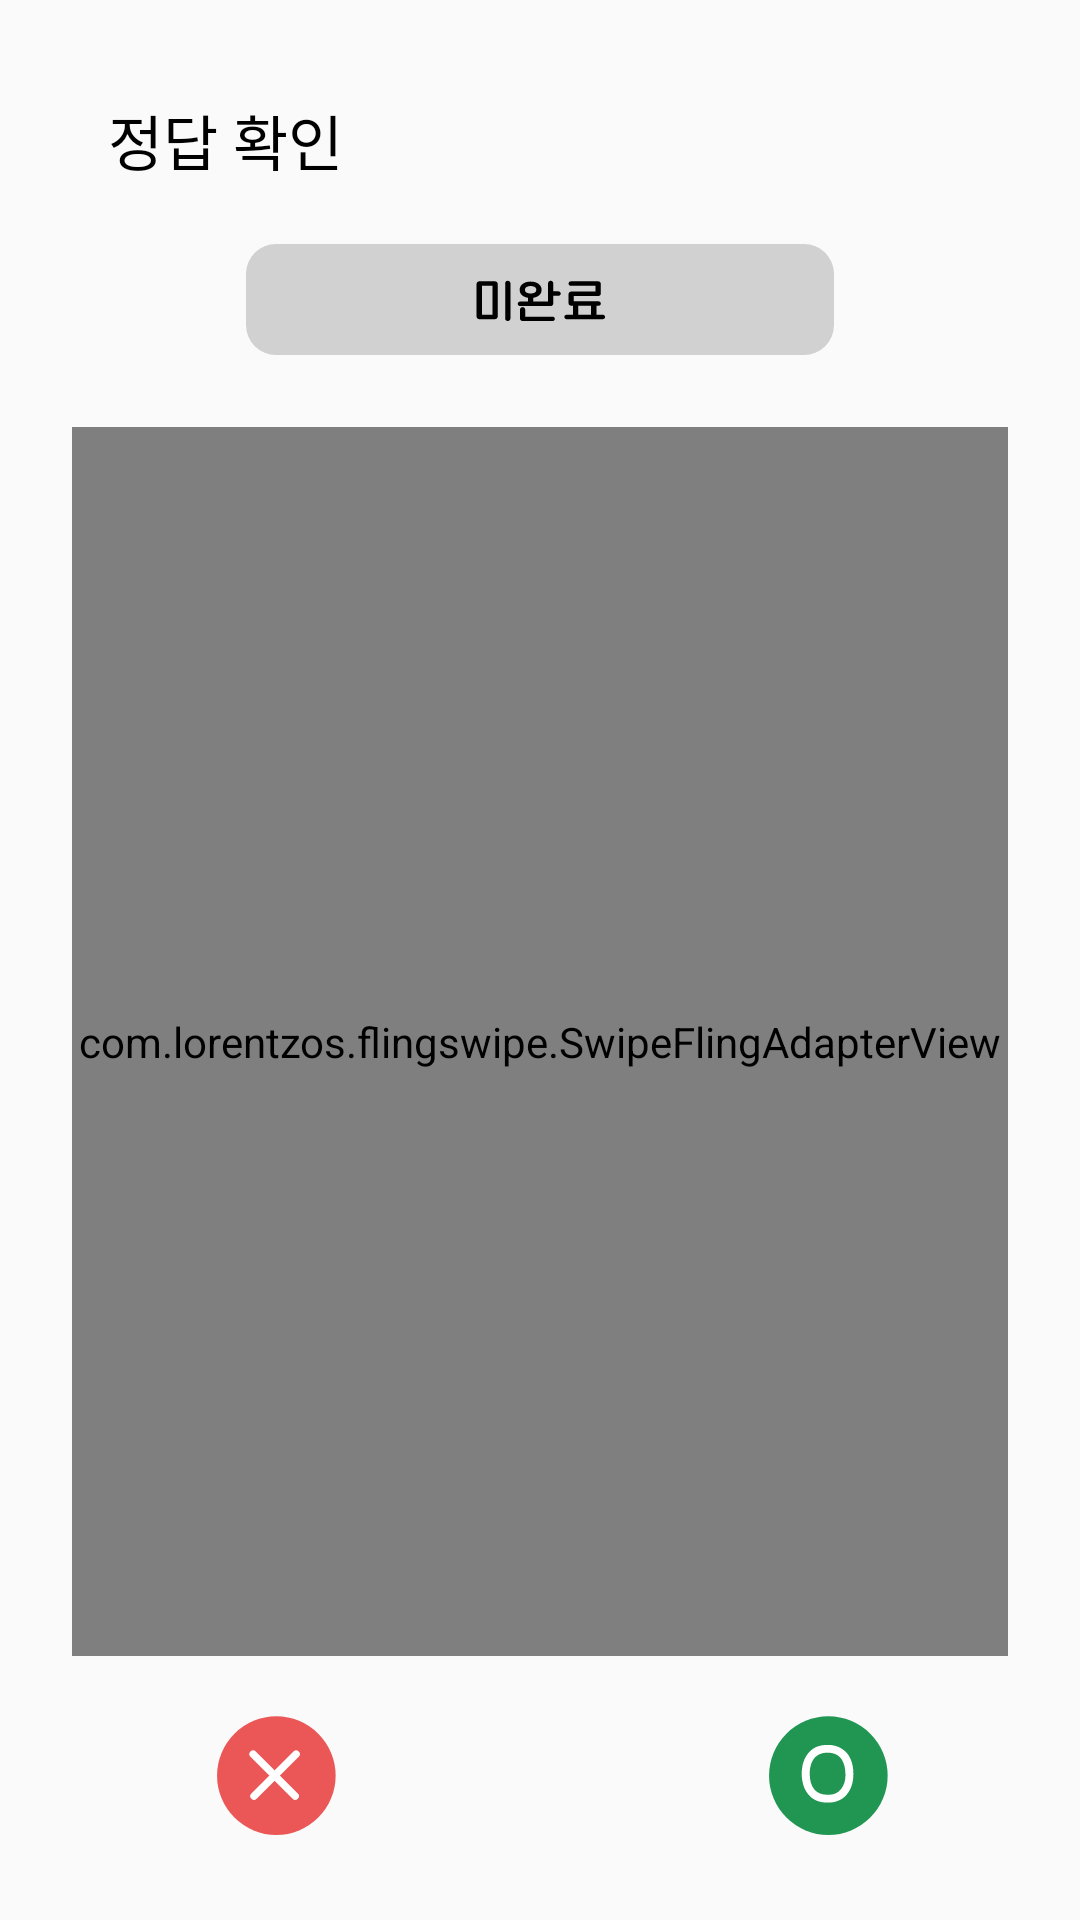

Screen size 1080 x 1920. Icon name, then its box in pixels as [x1,y1,x2,y2]:
card negative: [217,1716,336,1835]
card positive: [769,1716,888,1835]
